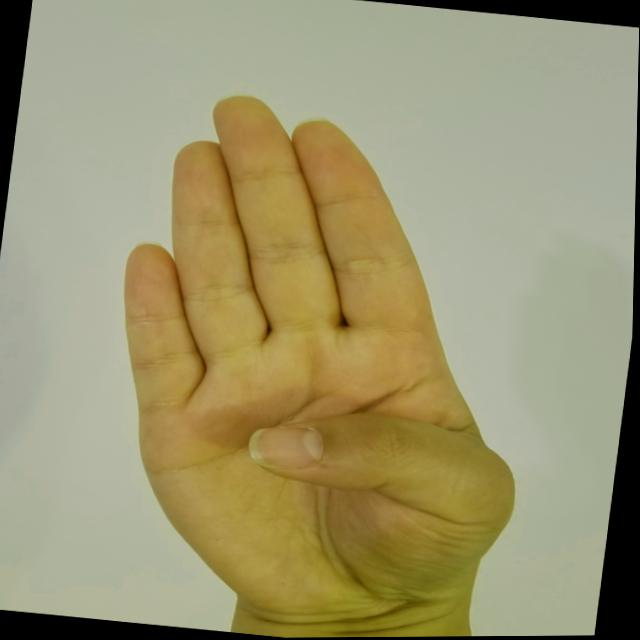B: (72, 75, 581, 639)
